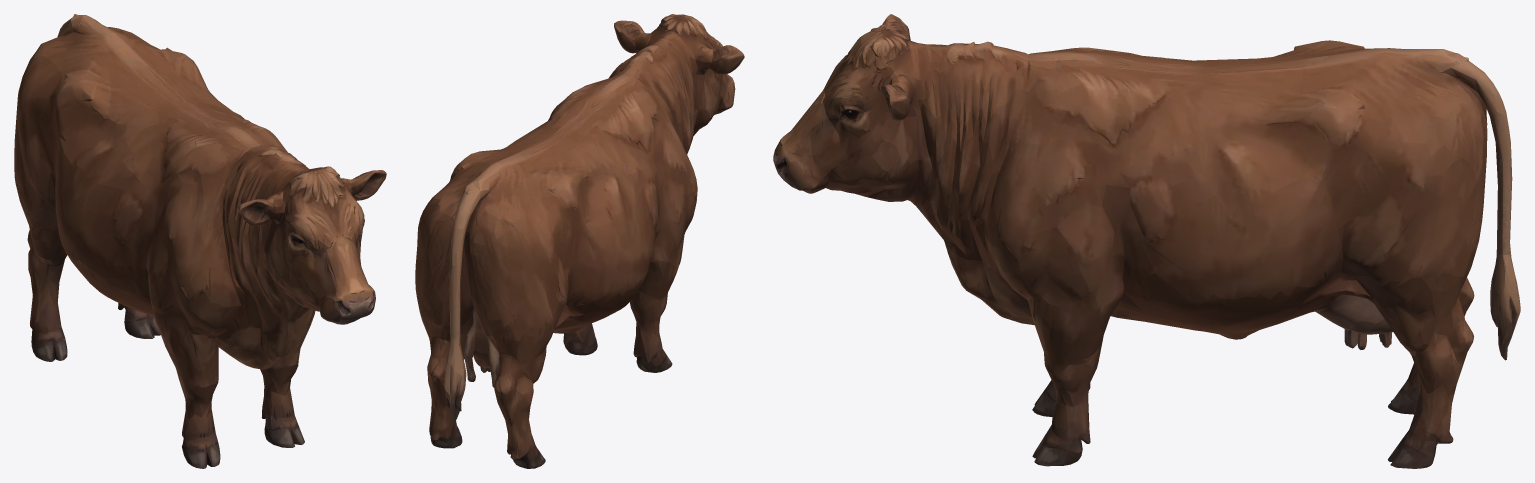
Rendered from cow.glb.
3 renders of one model, left to right at view 1: azimuth 30°, elevation 25°; view 2: azimuth 150°, elevation 25°; view 3: azimuth 270°, elevation 25°, orthographic. The views are drawn at different scales.
Size of the model in its own units: 0.6894 by 1.13 by 1.9.
1 material, 1 textured.
